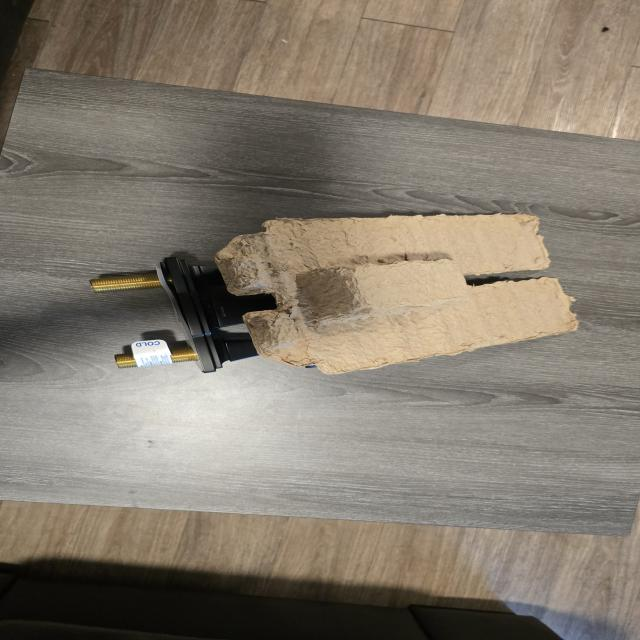9o: (90, 257, 274, 372)
